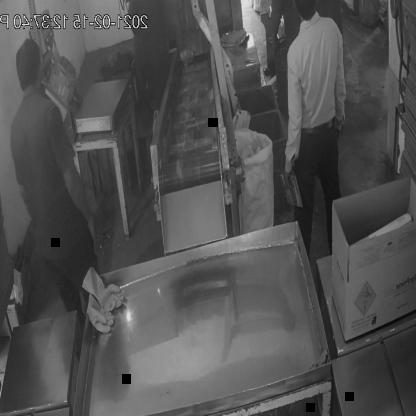no_glove: (63, 152, 99, 258), (280, 57, 302, 198), (266, 0, 285, 79)
